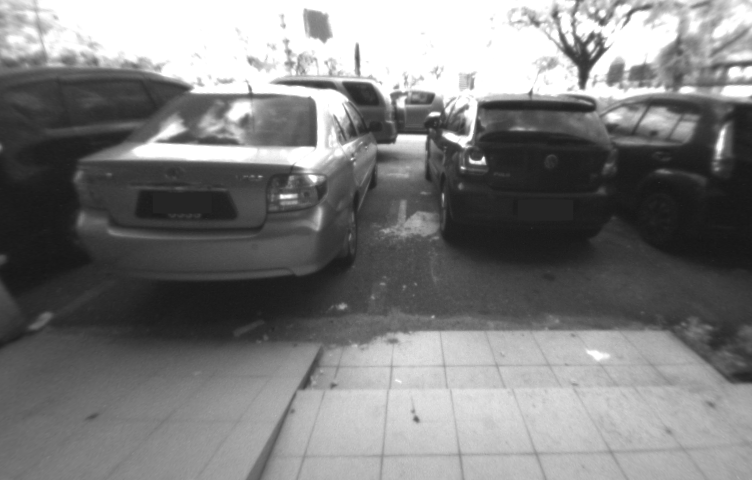down_steps: (289, 322, 748, 480)
mixed_gradient: (197, 334, 363, 480)
